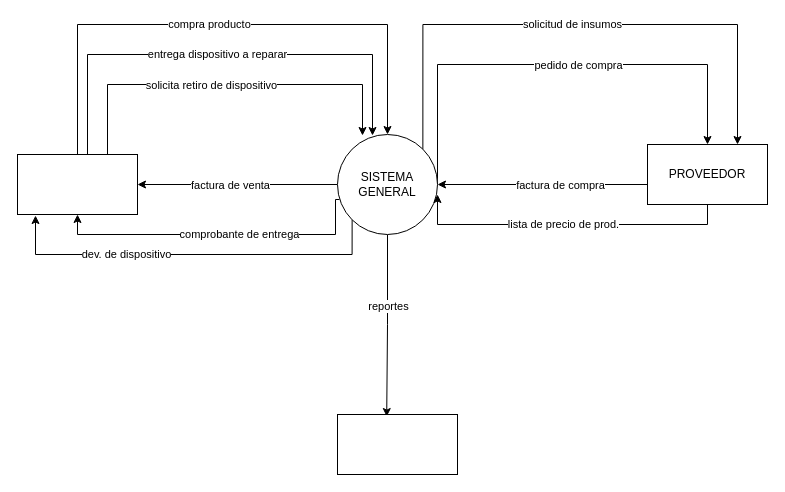
The diagram is 785 pixels wide and 492 high, and some of its shapes have lost their labels. Here are the shapes that lost their labels. From the top down, the centre of each, then its label:
At point 77,184: "CLIENTE".
At point 397,444: "DTO DE GESTIÓN".
